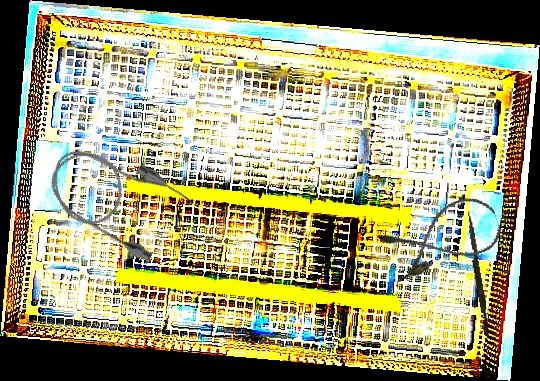Cannula: (35, 127, 198, 269), (376, 189, 507, 286)
Pusher: (462, 210, 493, 336)
